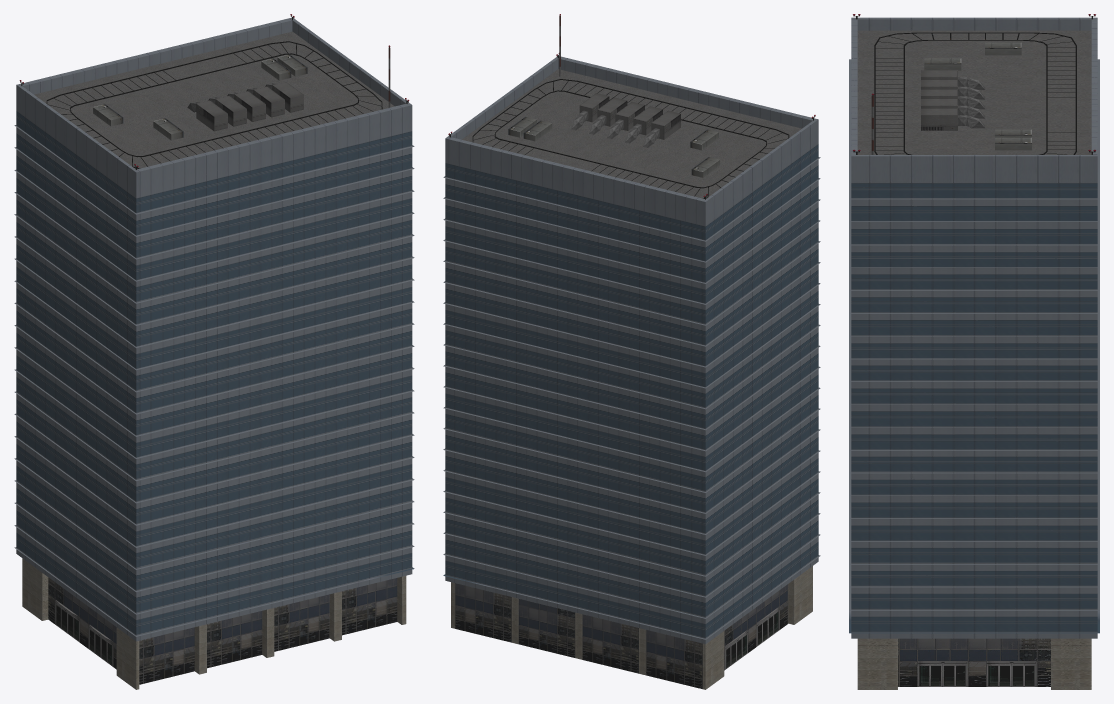
File: building2.glb
3 renders of one model, left to right at view 1: azimuth 30°, elevation 25°; view 2: azimuth 150°, elevation 25°; view 3: azimuth 270°, elevation 25°, orthographic. The views are drawn at different scales.
Parts seen in each view (by area): view 1: bina.009; view 2: bina.009; view 3: bina.009.
Boxes of the visible parts, x1,y1,x2,y2 form: bina.009: [14, 14, 414, 689]; bina.009: [443, 14, 820, 689]; bina.009: [849, 14, 1099, 689].
Bounding box in the file's own units: 19.28 × 38.03 × 14.62.
Materials: 1 (1 with a texture image).
